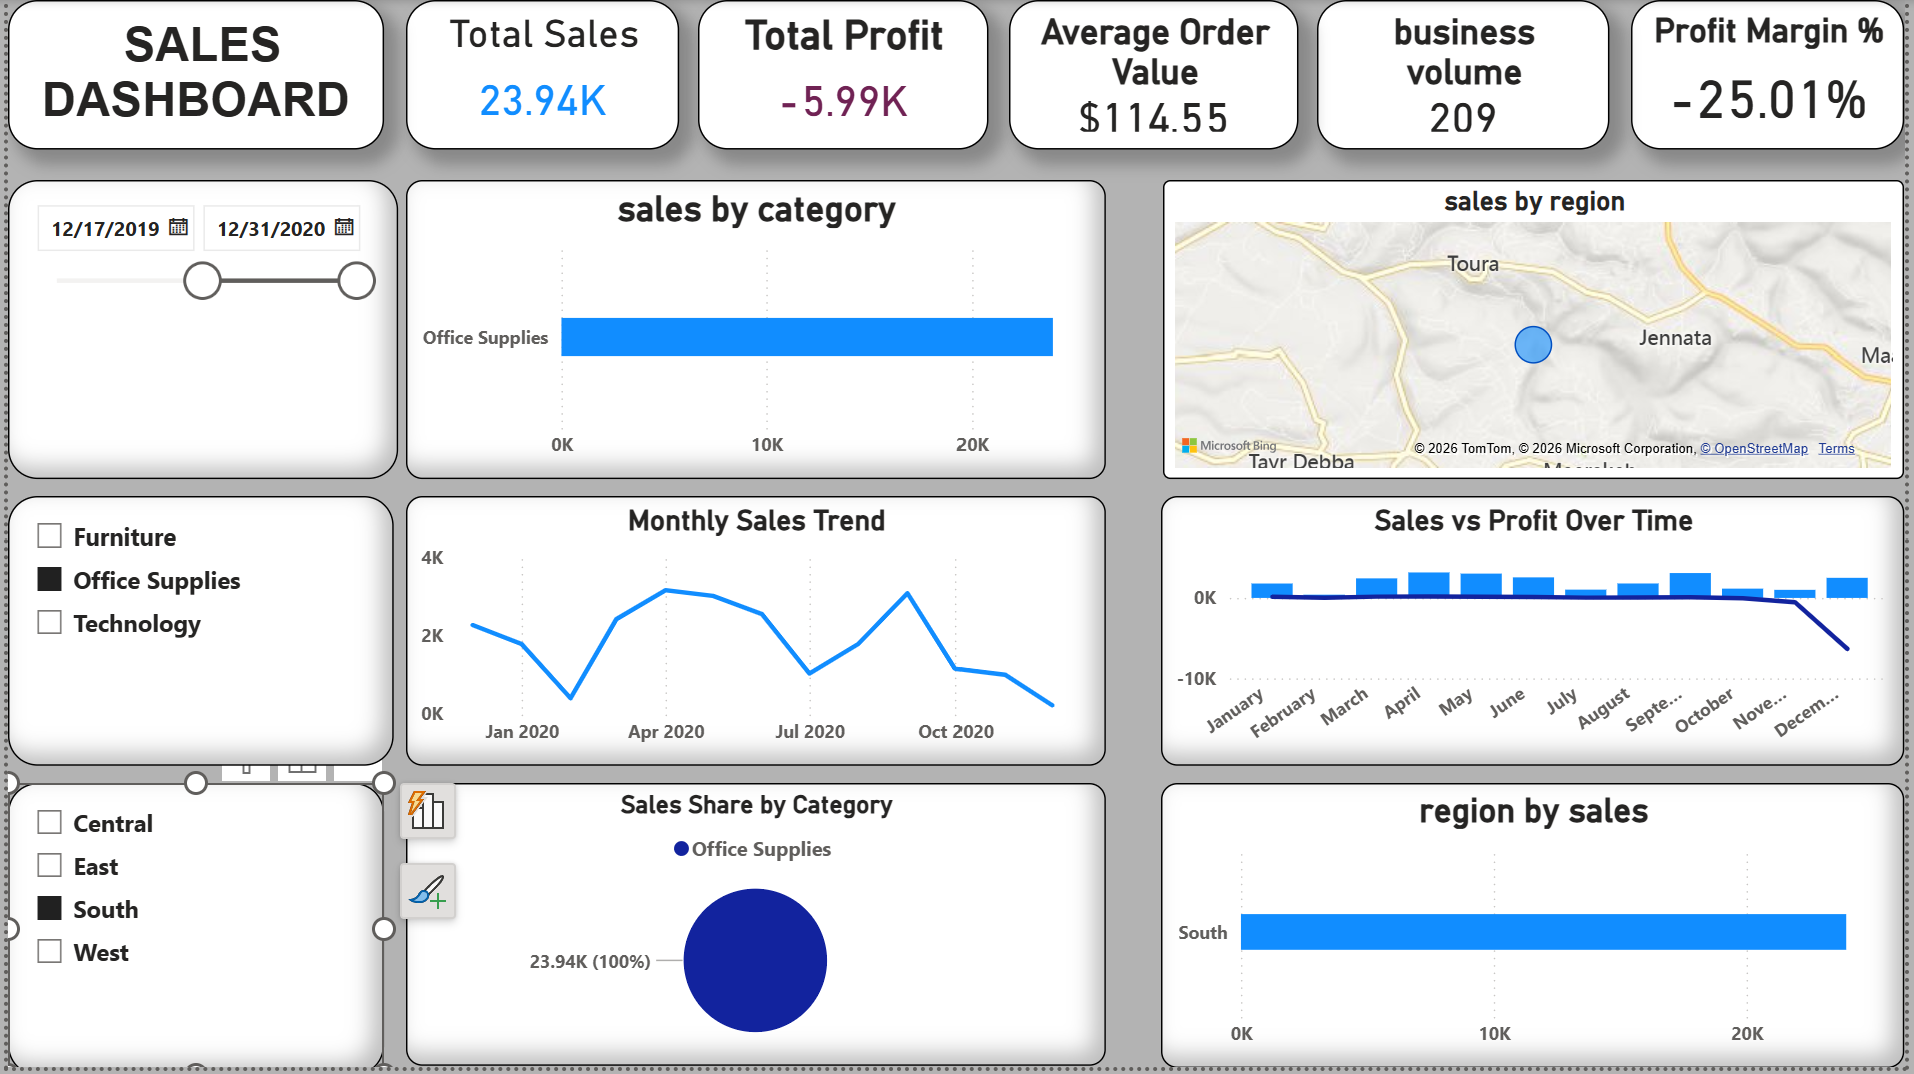

The page's visual inventory and layout, read from the dashboard file:
{"tool":"powerbi","page":{"name":"Page 1","canvas":[1280,720],"ordinal":0},"visuals":[{"type":"card","title":"Total Sales","fields":{"Values":["superstore_sales_powerbi.Total Sales"]},"box":[268.3,0,184.7,101],"z":0},{"type":"card","title":"Total Profit","fields":{"Values":["superstore_sales_powerbi.Total Profit"]},"box":[465.6,0,195.7,101],"z":1000},{"type":"clusteredBarChart","title":"sales by category","fields":{"Category":["superstore_sales_powerbi.category"],"Y":["Sum(superstore_sales_powerbi.sales)"]},"box":[268.3,121.5,471.9,202],"z":2000},{"type":"barChart","title":"region by sales","fields":{"Category":["superstore_sales_powerbi.region"],"Y":["Sum(superstore_sales_powerbi.sales)"]},"box":[778.1,528.7,501.9,192.6],"z":3000},{"type":"lineChart","title":"Monthly Sales Trend","fields":{"Category":["superstore_sales_powerbi.order_date.Variation.Date Hierarchy.Year","superstore_sales_powerbi.order_date.Variation.Date Hierarchy.Month"],"Y":["Sum(superstore_sales_powerbi.sales)"]},"box":[268.3,334.6,471.9,181.5],"z":4000},{"type":"map","title":" sales by region","fields":{"Category":["superstore_sales_powerbi.region"],"Size":["Sum(superstore_sales_powerbi.sales)"]},"box":[779.7,121.5,500.3,202],"z":5000},{"type":"card","title":"Profit Margin %","fields":{"Values":["superstore_sales_powerbi.Profit Margin (%)"]},"box":[1095.3,0,184.7,101],"z":6000},{"type":"card","title":"business volume","fields":{"Values":["superstore_sales_powerbi.Total Orders"]},"box":[883.8,0,197.3,101],"z":7000},{"type":"card","title":"Average Order Value","fields":{"Values":["superstore_sales_powerbi.Average Order Value"]},"box":[675.5,0,195.7,101],"z":8000},{"type":"slicer","fields":{"Values":["superstore_sales_powerbi.region"]},"box":[0,528.7,254.1,197.3],"z":9000},{"type":"slicer","fields":{"Values":["superstore_sales_powerbi.category"]},"box":[0,334.6,260.4,181.5],"z":10000},{"type":"slicer","fields":{"Values":["superstore_sales_powerbi.order_date"]},"box":[0,121.5,263.6,202],"z":11000},{"type":"lineStackedColumnComboChart","title":"Sales vs Profit Over Time","fields":{"Y":["Sum(superstore_sales_powerbi.sales)"],"Y2":["superstore_sales_powerbi.Total Profit"],"Category":["superstore_sales_powerbi.order_date.Variation.Date Hierarchy.Month"]},"box":[778.1,334.6,501.9,181.5],"z":12000},{"type":"textbox","box":[0,0,254.1,101],"z":13000},{"type":"pieChart","title":"Sales Share by Category","fields":{"Category":["superstore_sales_powerbi.category"],"Y":["superstore_sales_powerbi.Total Sales"]},"box":[268.3,528.7,471.9,191],"z":14000}]}

Visuals, with their boxes in screenshot pixels (x1, y1, x2, y2), scaled from the page's 1280x720 canvas onto the 1914x1074 screenshot:
"Total Sales" card: [left=401, top=0, right=677, bottom=151]
"Total Profit" card: [left=696, top=0, right=989, bottom=151]
"sales by category" clusteredBarChart: [left=401, top=181, right=1107, bottom=483]
"region by sales" barChart: [left=1164, top=789, right=1913, bottom=1073]
"Monthly Sales Trend" lineChart: [left=401, top=499, right=1107, bottom=770]
" sales by region" map: [left=1166, top=181, right=1913, bottom=483]
"Profit Margin %" card: [left=1638, top=0, right=1913, bottom=151]
"business volume" card: [left=1322, top=0, right=1617, bottom=151]
"Average Order Value" card: [left=1010, top=0, right=1303, bottom=151]
slicer - superstore_sales_powerbi.region: [left=0, top=789, right=380, bottom=1073]
slicer - superstore_sales_powerbi.category: [left=0, top=499, right=389, bottom=770]
slicer - superstore_sales_powerbi.order_date: [left=0, top=181, right=394, bottom=483]
"Sales vs Profit Over Time" lineStackedColumnComboChart: [left=1164, top=499, right=1913, bottom=770]
textbox: [left=0, top=0, right=380, bottom=151]
"Sales Share by Category" pieChart: [left=401, top=789, right=1107, bottom=1073]
